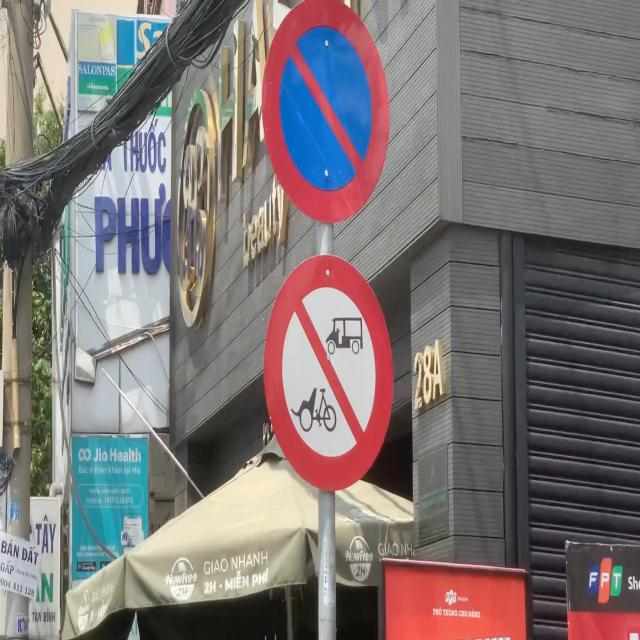Cam con lai: (264, 254, 394, 496)
Cam do: (260, 0, 390, 226)
